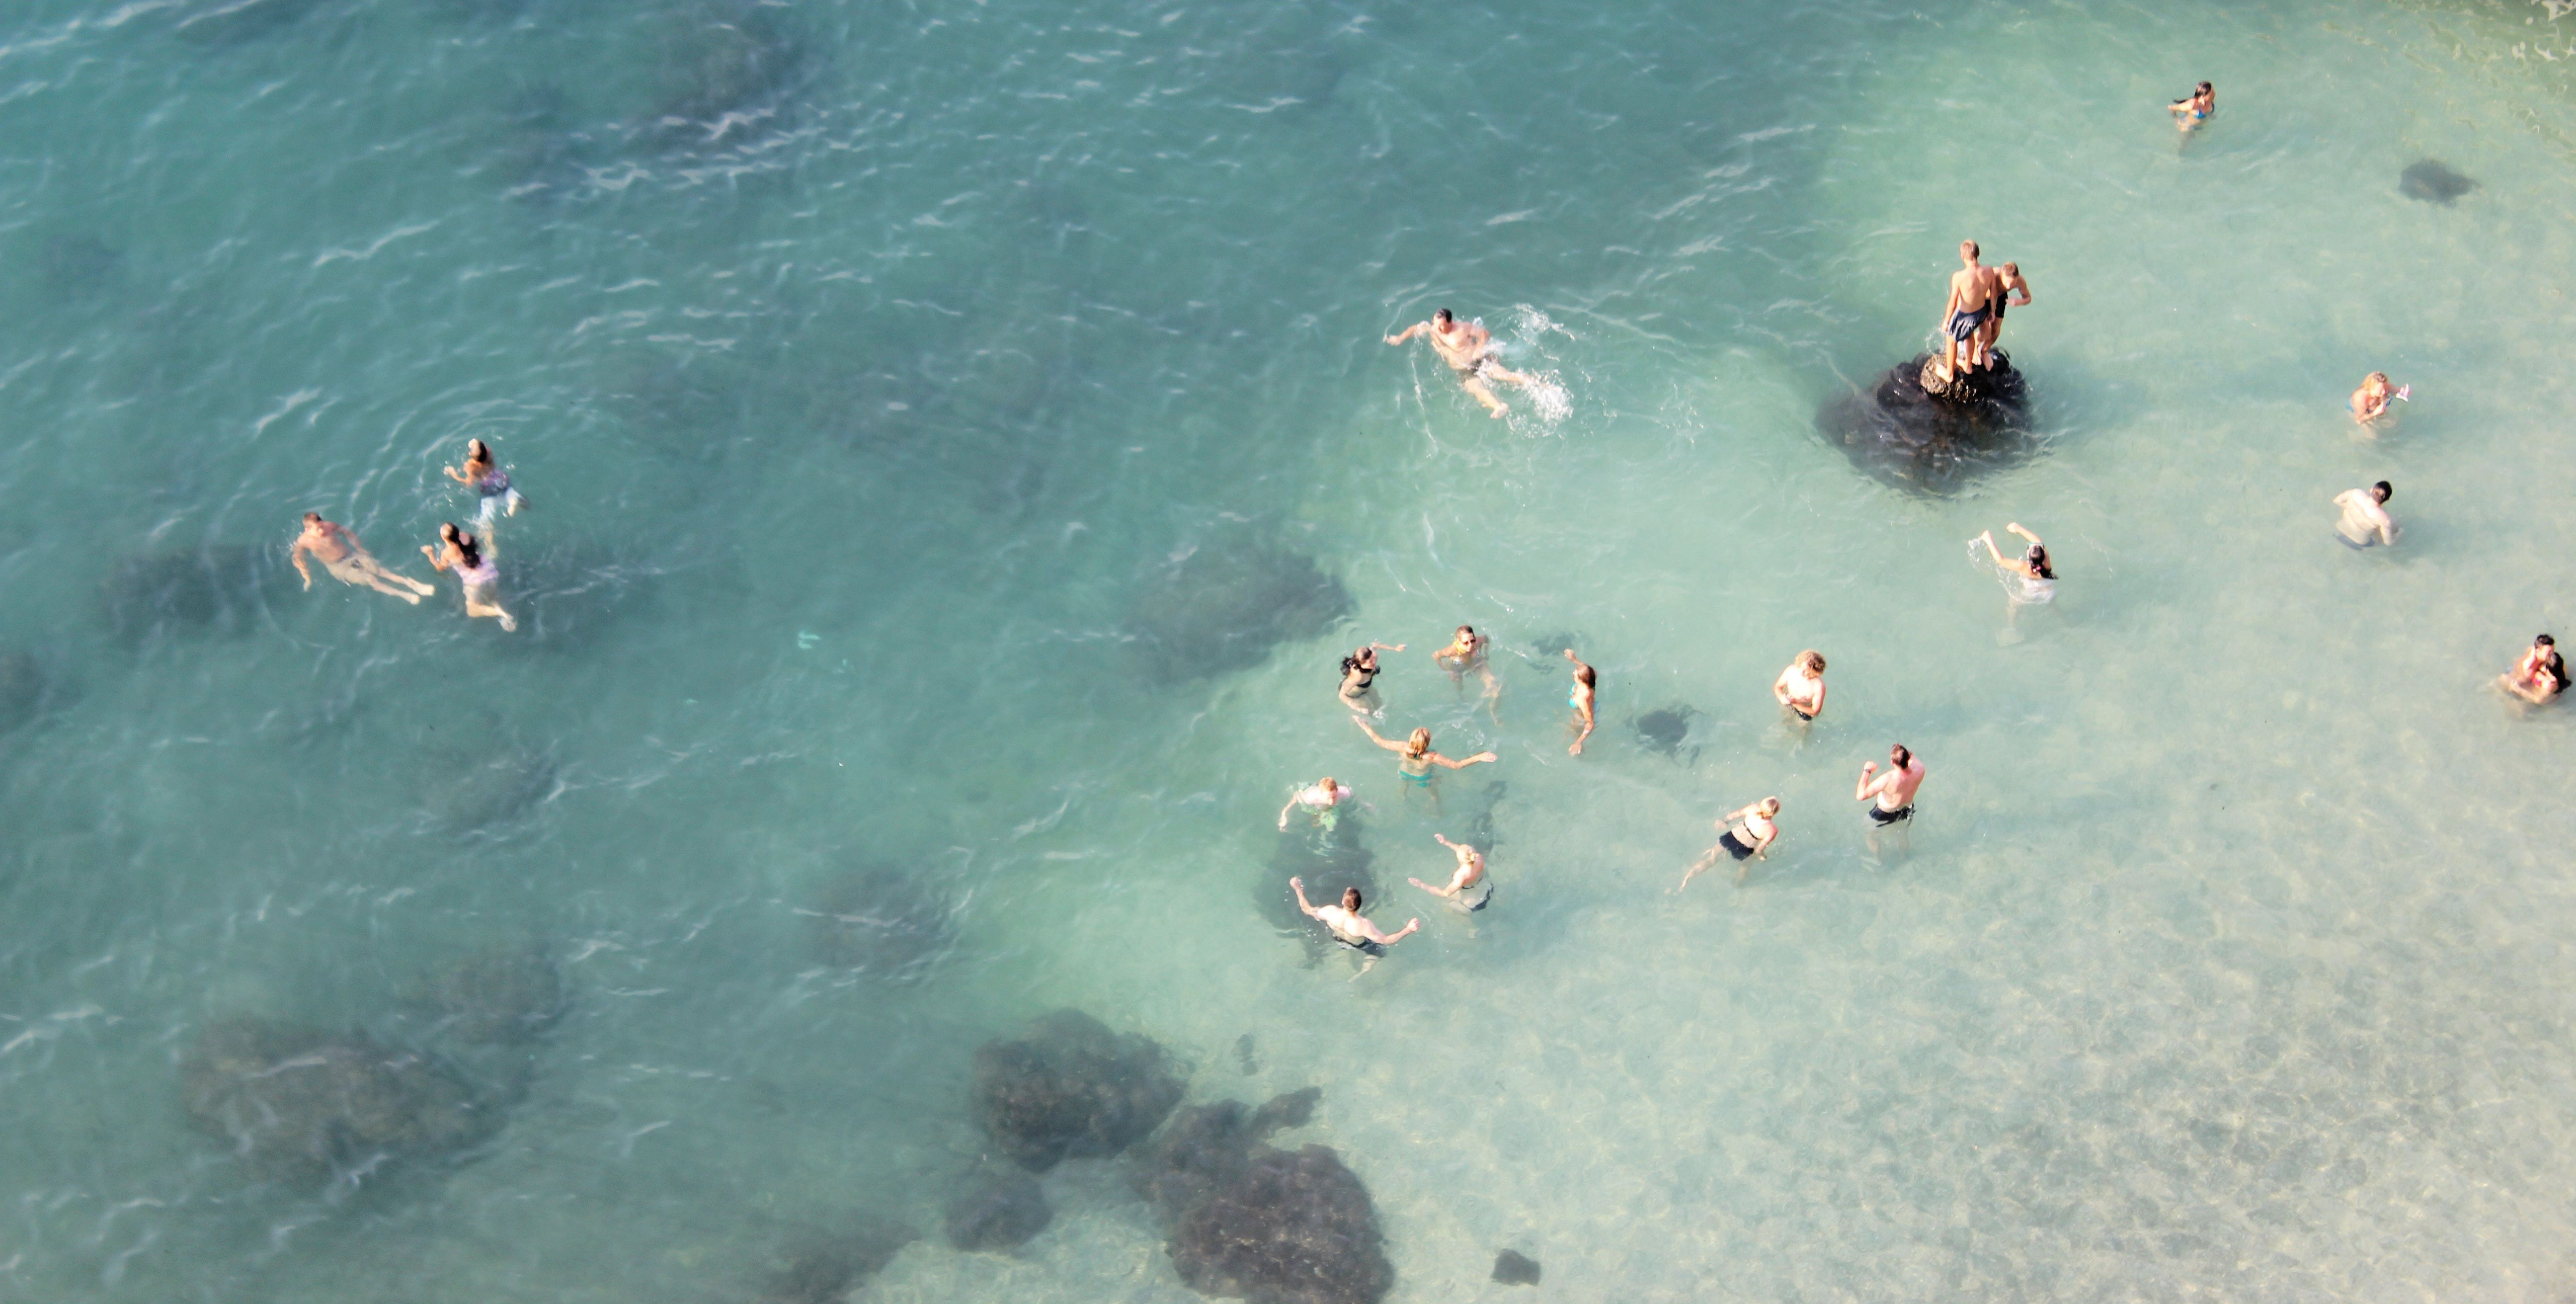people: (1381, 301, 1593, 426), (280, 507, 442, 619), (1957, 514, 2102, 636), (1278, 868, 1420, 975), (1911, 244, 2025, 364), (420, 518, 533, 638), (1302, 616, 1410, 737), (1834, 739, 1951, 840), (2320, 352, 2437, 446), (1685, 787, 1787, 892), (1539, 642, 1624, 763), (1407, 813, 1502, 921), (2480, 619, 2576, 712), (1256, 767, 1375, 840), (2320, 469, 2414, 563), (2147, 66, 2237, 156), (1375, 732, 1514, 791), (439, 432, 536, 507), (1429, 627, 1508, 702)
